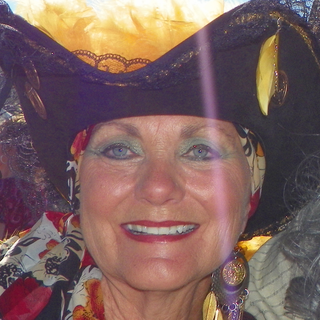eye: (176, 140, 221, 165), (97, 140, 142, 164)
